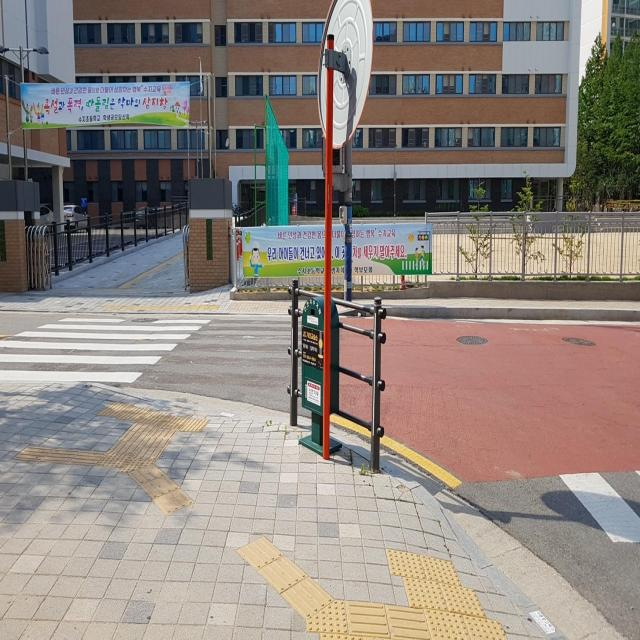횡단보도: (0, 316, 213, 386)
